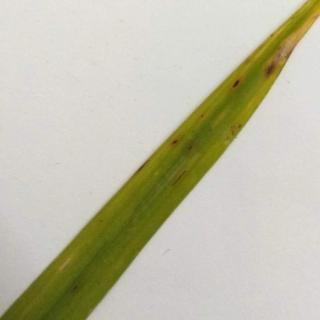bercak-Cokelat: (265, 55, 290, 78), (169, 137, 195, 156), (223, 75, 249, 94)
